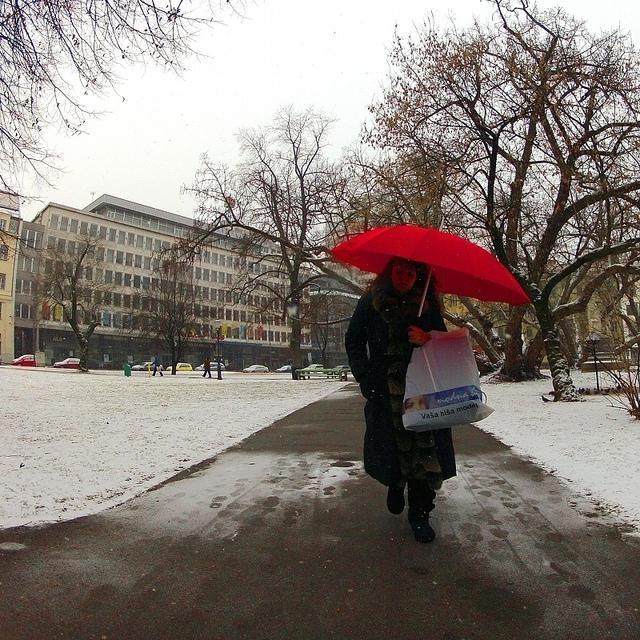car: (193, 361, 226, 371), (12, 354, 36, 366), (54, 358, 80, 369), (132, 362, 163, 371), (243, 364, 270, 374), (166, 363, 192, 371), (274, 365, 292, 373), (332, 364, 351, 370), (304, 364, 324, 369)
